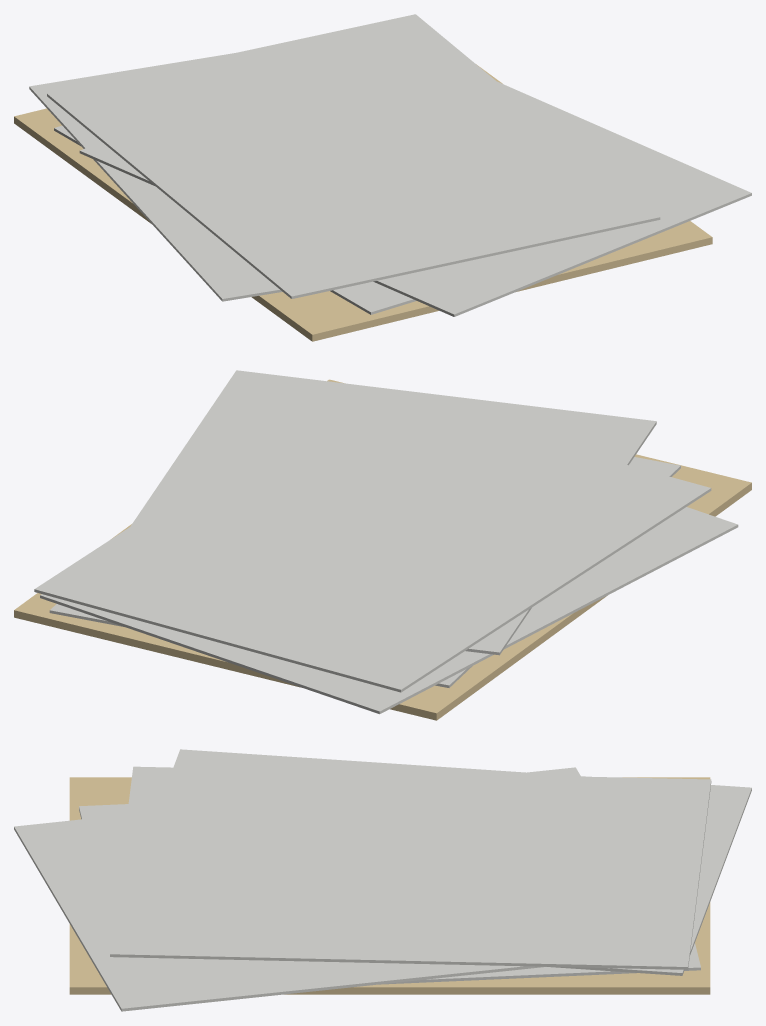
File: SM_Papers.fbx
3 views of the same model, one above another, from view 1: azimuth 30°, elevation 25°; view 2: azimuth 150°, elevation 25°; view 3: azimuth 270°, elevation 25° (orthographic). The views are drawn at different scales.
Visible parts, largest first — view 1: SM_Papers; view 2: SM_Papers; view 3: SM_Papers.
Part boxes in pixels (x1,y1,x2,y2): SM_Papers: (14,14,751,341); SM_Papers: (14,370,751,720); SM_Papers: (14,749,751,1011).
Size of the model in its own units: 30.13 by 35.69 by 1.22.
